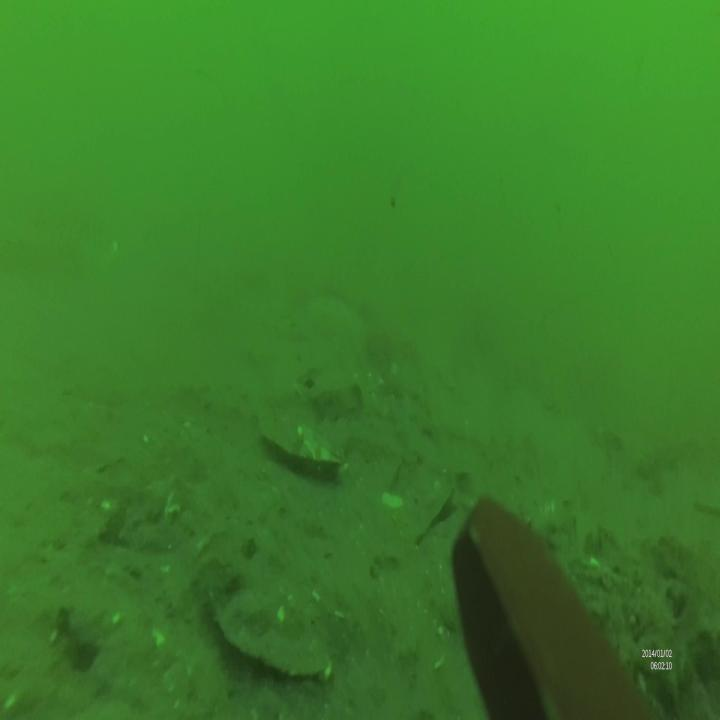scallop: (209, 584, 330, 682), (265, 412, 345, 479)
